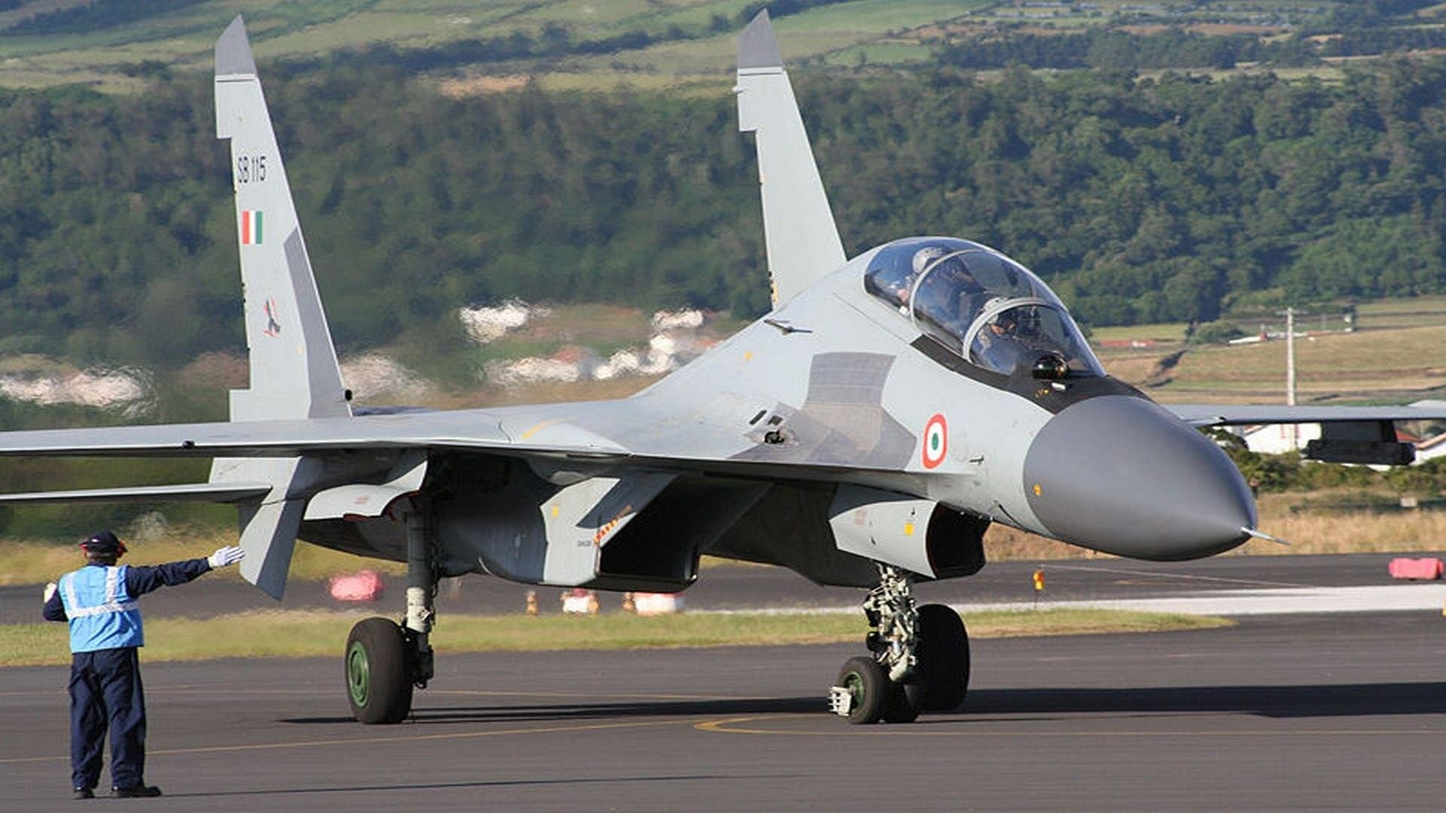aircraft: (2, 2, 1385, 730)
